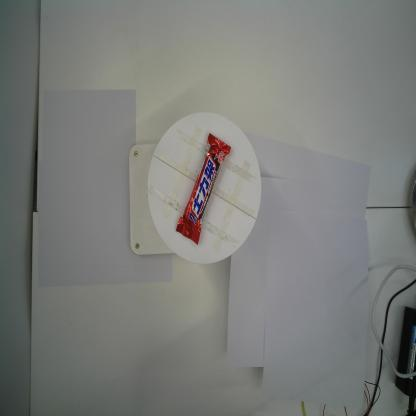Chocolate: (174, 128, 232, 248)
